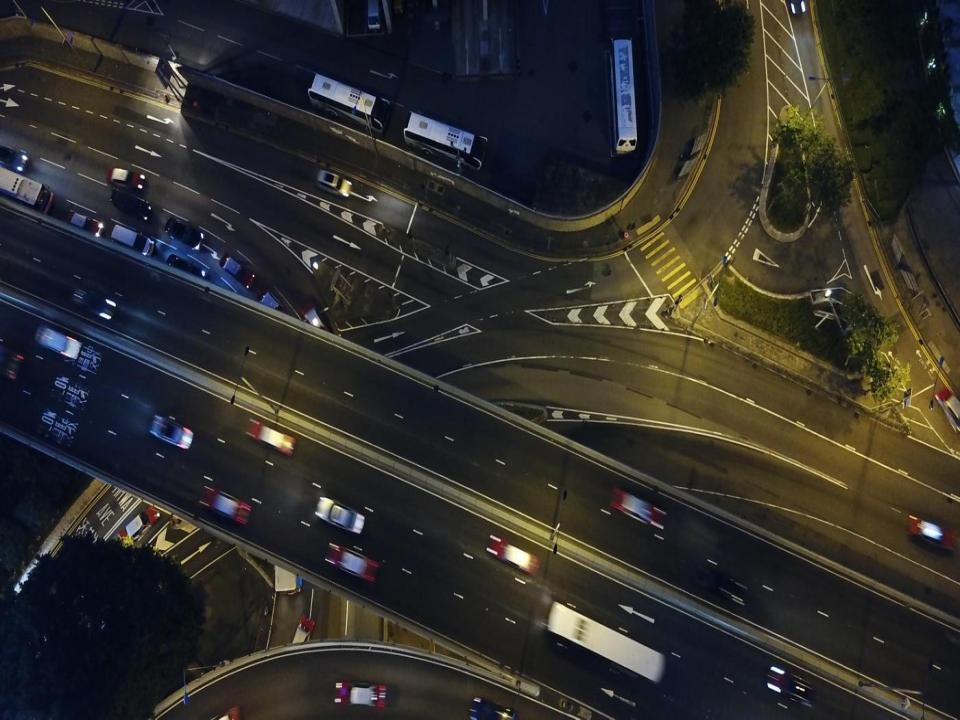bus: (547, 601, 666, 682), (403, 110, 487, 169), (308, 73, 390, 132), (608, 37, 638, 157), (0, 166, 52, 216)
car: (610, 487, 666, 531), (695, 562, 746, 606), (486, 534, 539, 576), (199, 484, 251, 526), (767, 664, 815, 708), (324, 543, 378, 580), (314, 496, 365, 534), (246, 418, 296, 455), (906, 515, 954, 552), (120, 505, 160, 544), (148, 414, 192, 449), (219, 252, 255, 289), (165, 216, 204, 250), (165, 254, 206, 286), (335, 681, 385, 706), (288, 615, 314, 663), (110, 190, 151, 220), (934, 387, 960, 434), (258, 290, 293, 324), (302, 302, 330, 344), (64, 210, 103, 240), (470, 696, 517, 719), (106, 166, 145, 188), (0, 144, 27, 172)
van: (111, 223, 154, 259), (317, 168, 352, 197)
